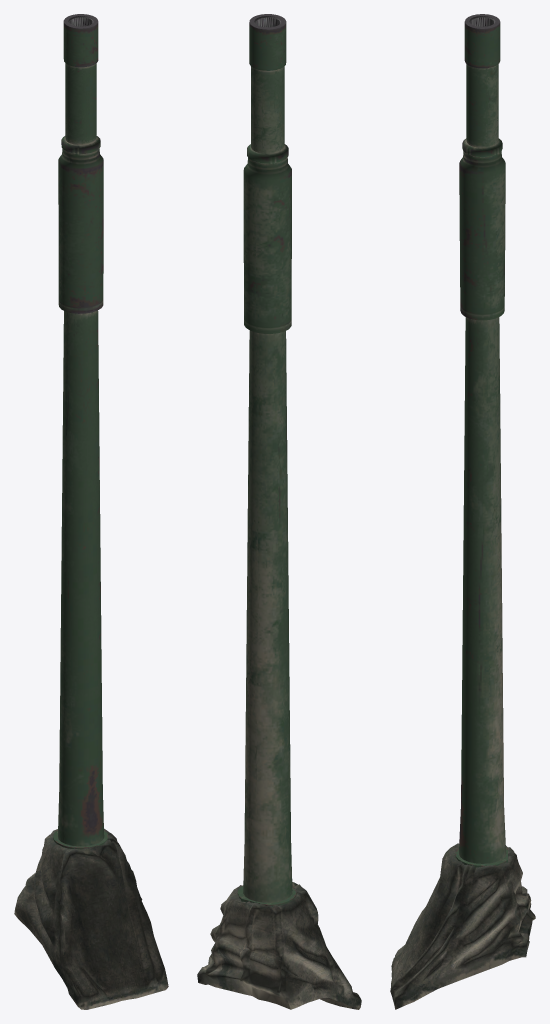
The model's file is Gun_01.glb.
The picture shows the model from 3 angles, left to right: view 1: azimuth 30°, elevation 25°; view 2: azimuth 150°, elevation 25°; view 3: azimuth 270°, elevation 25°; orthographic projection. The views are drawn at different scales.
Parts seen in each view (by area): view 1: set_0_group_0; view 2: set_0_group_0; view 3: set_0_group_0.
Part boxes in pixels (<box>): set_0_group_0: <box>14,14,168,1009</box>; set_0_group_0: <box>197,14,361,1009</box>; set_0_group_0: <box>390,14,535,1009</box>.
Size of the model in its own units: 0.4805 by 4.43 by 0.6036.
1 material, 1 textured.
